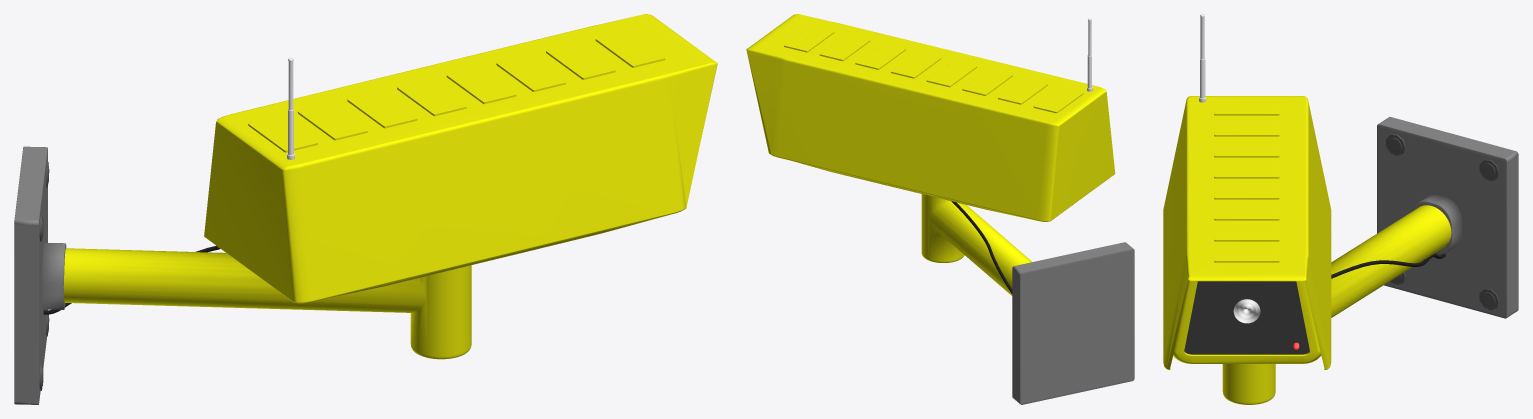
3 renders of one model, left to right at view 1: azimuth 30°, elevation 25°; view 2: azimuth 150°, elevation 25°; view 3: azimuth 270°, elevation 25°, orthographic. The views are drawn at different scales.
Parts seen in each view (by area): view 1: Cubo, Cilindro.002, Cubo.003, Cilindro; view 2: Cubo, Cubo.003, Cilindro.002, Curva Bezier; view 3: Cubo, Cubo.003, Cilindro.002, Cube.002, Cube.003, Cube.000, Curva Bezier, Cilindro, Cilindro.010, Cilindro.009, Cilindro.012.
Part boxes in pixels (bbox=[...]): Cubo: bbox=[204, 14, 717, 303]; Cilindro.002: bbox=[63, 248, 471, 359]; Cubo.003: bbox=[14, 146, 66, 404]; Cilindro: bbox=[287, 57, 294, 159]; Cubo: bbox=[746, 14, 1115, 221]; Cubo.003: bbox=[1012, 242, 1134, 404]; Cilindro.002: bbox=[921, 194, 1031, 295]; Curva Bezier: bbox=[951, 201, 1012, 293]; Cubo: bbox=[1163, 96, 1331, 369]; Cubo.003: bbox=[1377, 117, 1518, 318]; Cilindro.002: bbox=[1222, 205, 1451, 404]; Cube.002: bbox=[1184, 281, 1309, 354]; Cube.003: bbox=[1173, 281, 1321, 363]; Cube.000: bbox=[1233, 299, 1260, 323]; Curva Bezier: bbox=[1331, 253, 1445, 278]; Cilindro: bbox=[1199, 14, 1205, 102]; Cilindro.010: bbox=[1386, 134, 1405, 155]; Cilindro.009: bbox=[1479, 159, 1498, 181]; Cilindro.012: bbox=[1479, 288, 1498, 310].
Size of the model in its own units: 9.59 by 5.97 by 5.77.
